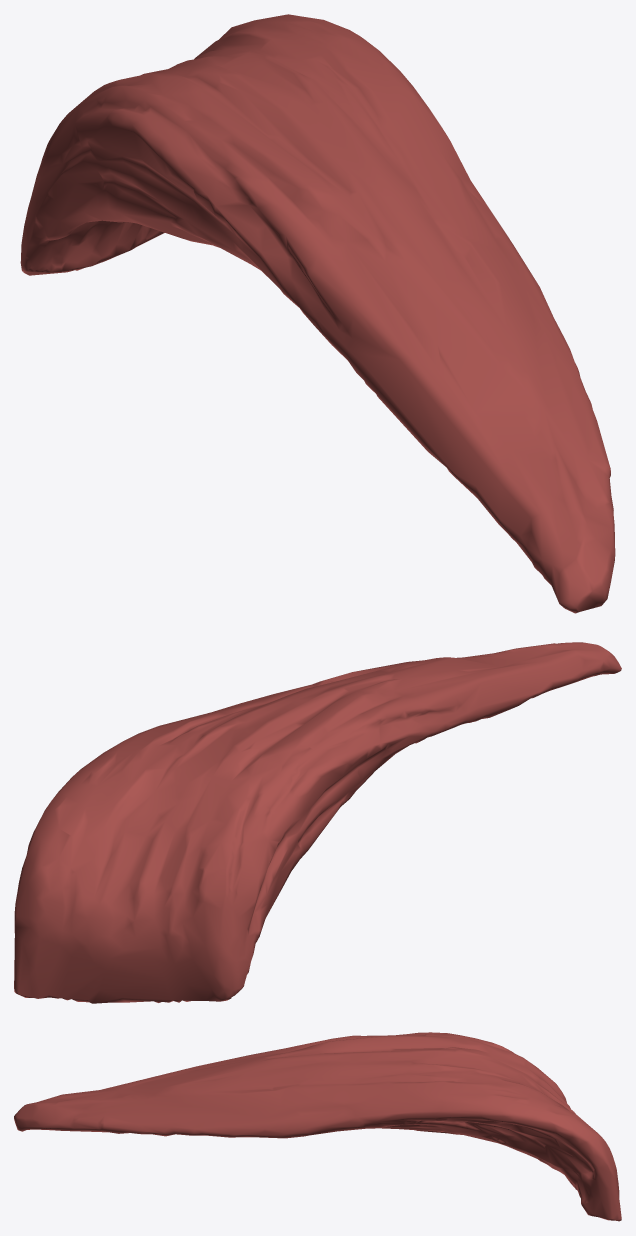
The model's file is FMA46327.glb.
The picture shows the model from 3 angles, top to bottom: view 1: azimuth 30°, elevation 25°; view 2: azimuth 150°, elevation 25°; view 3: azimuth 270°, elevation 25°; orthographic projection. The views are drawn at different scales.
Visible parts, largest first — view 1: FMA46327; view 2: FMA46327; view 3: FMA46327.
Part boxes in pixels (box(x1,y1,x2,y2)): FMA46327: box(20, 14, 615, 613); FMA46327: box(14, 642, 621, 1003); FMA46327: box(14, 1032, 621, 1221).
Bounding box in the file's own units: 0.0109 × 0.00979 × 0.0388.
